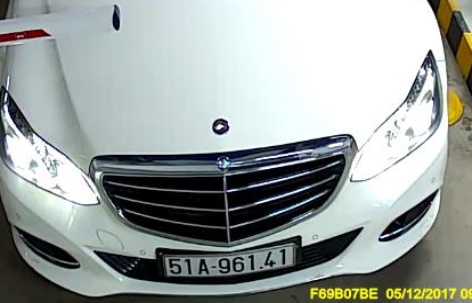plate: (152, 243, 310, 290)
